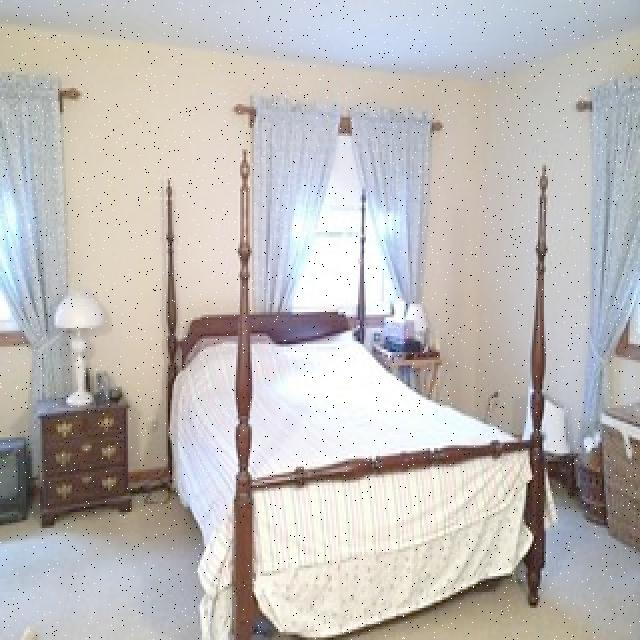bed: (168, 306, 536, 640)
